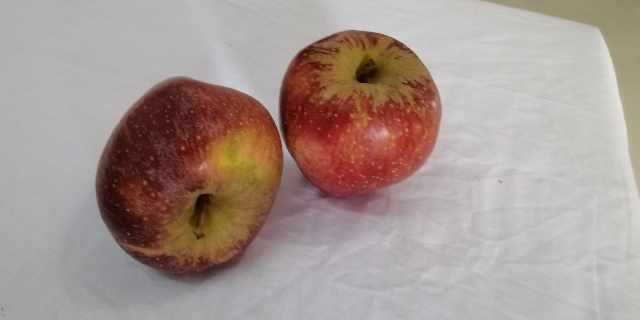apple_kashmir: (96, 74, 282, 279), (280, 29, 441, 195)
